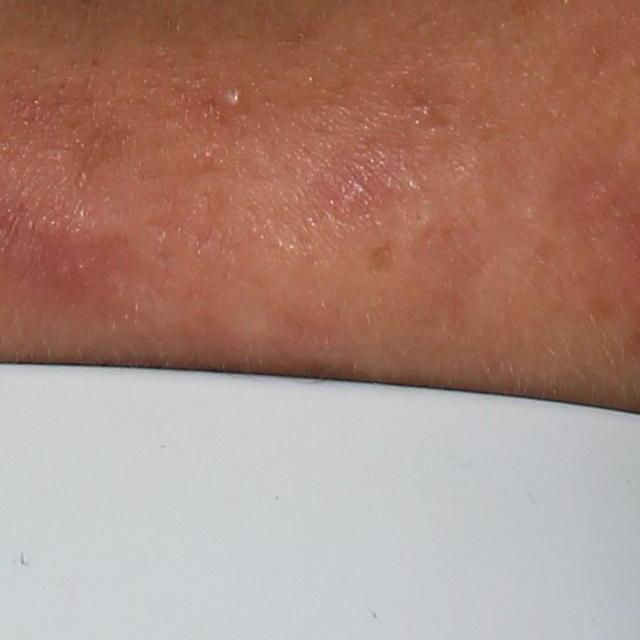pustule: (210, 83, 250, 113)
